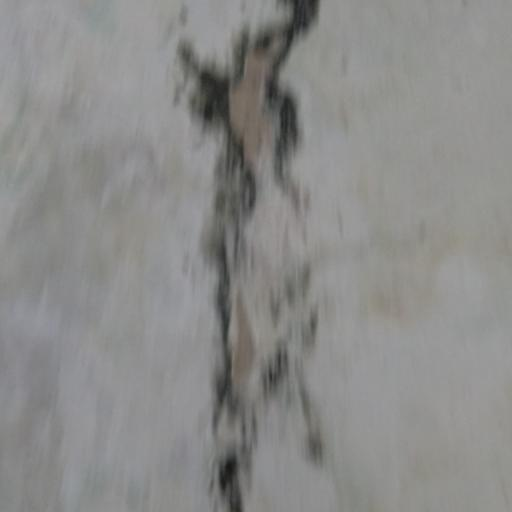algae: (138, 4, 376, 512)
